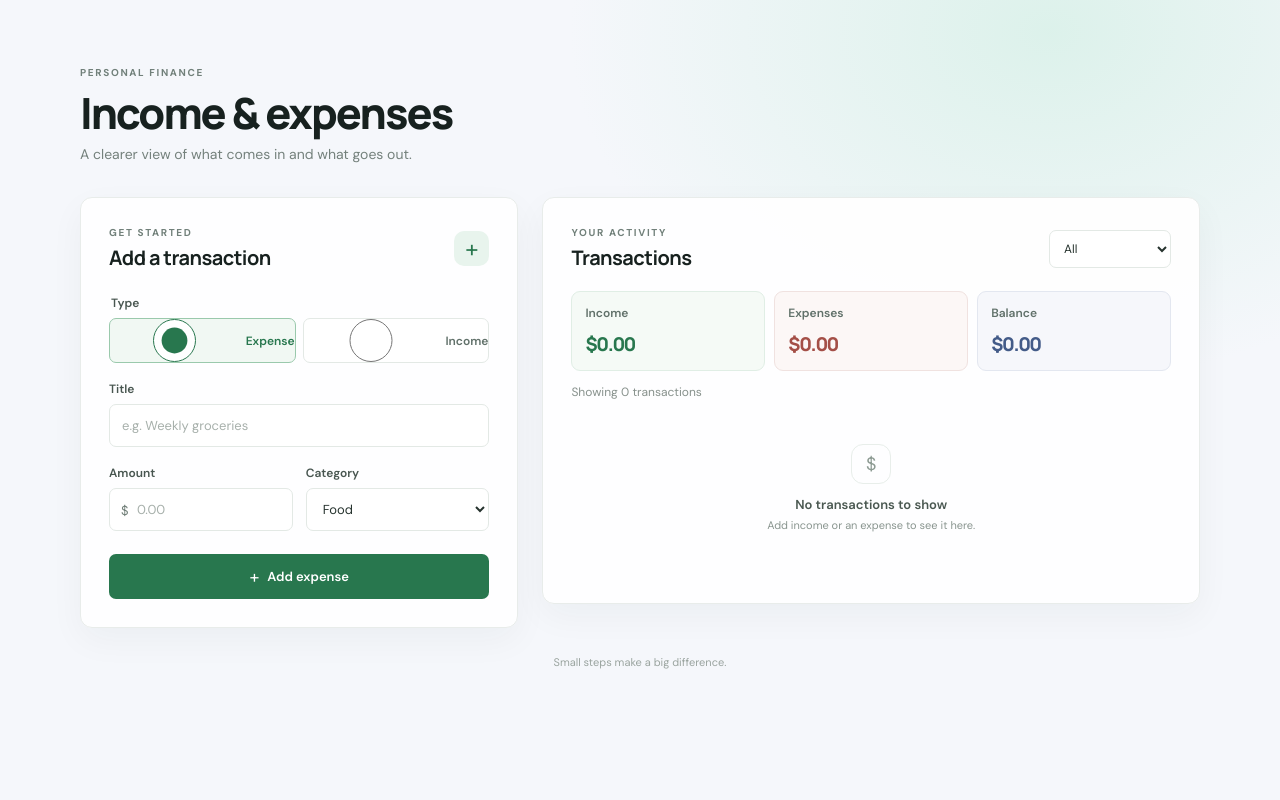
Test: expense tracker › adds a valid expense and updates the total and count
Type "Lunch" into the field labelled "Title".
click(299, 426); type("Lunch")  # box [109,404,489,447]
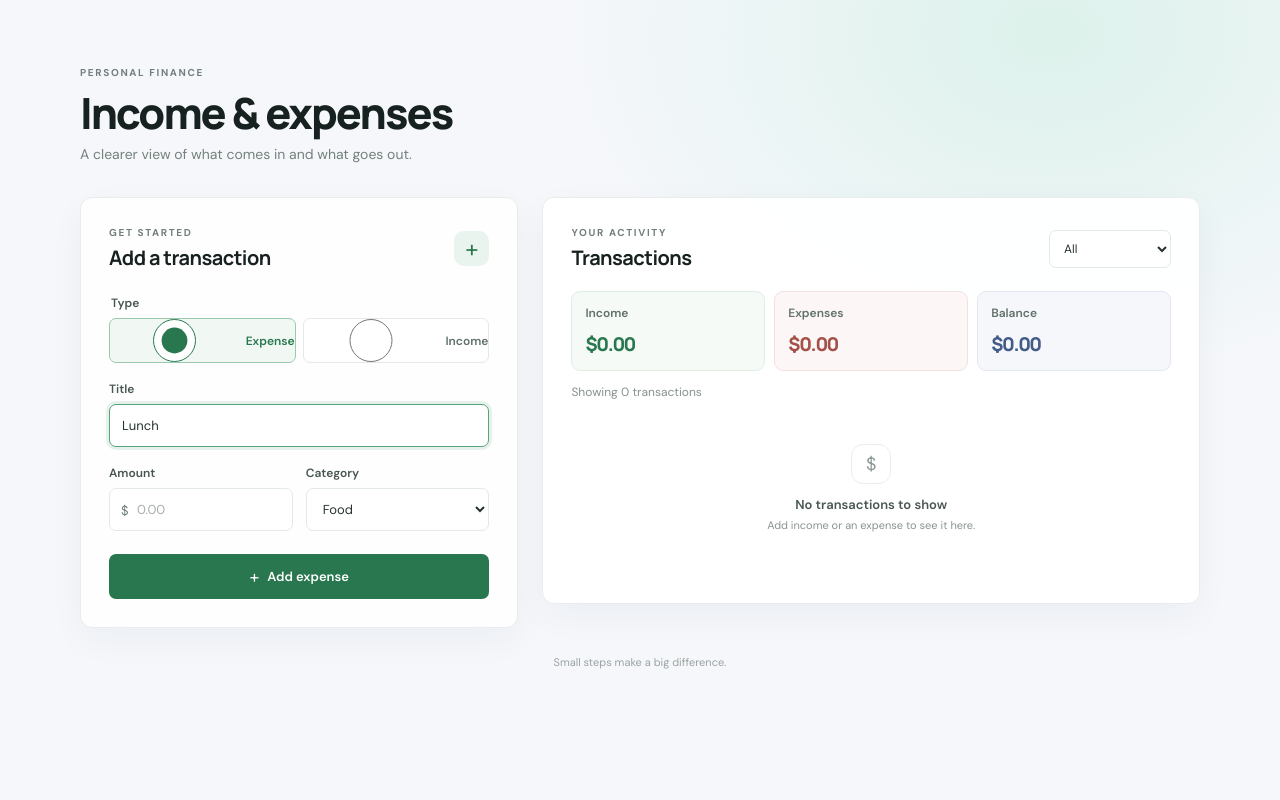
Type "250" into the number field labelled "Amount".
click(201, 510); type("250")  # box [109,488,293,531]
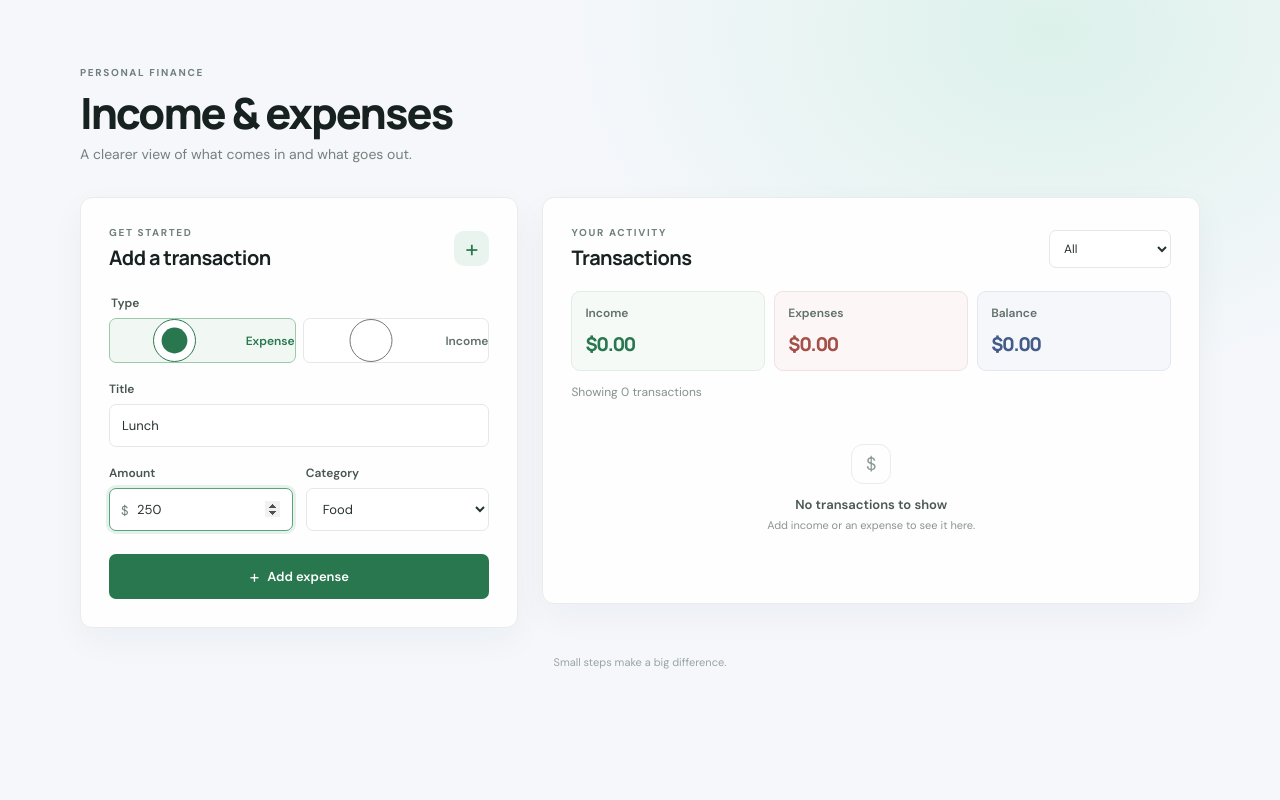
Click the button "+ Add expense".
click(299, 577)  # box [109,554,489,599]
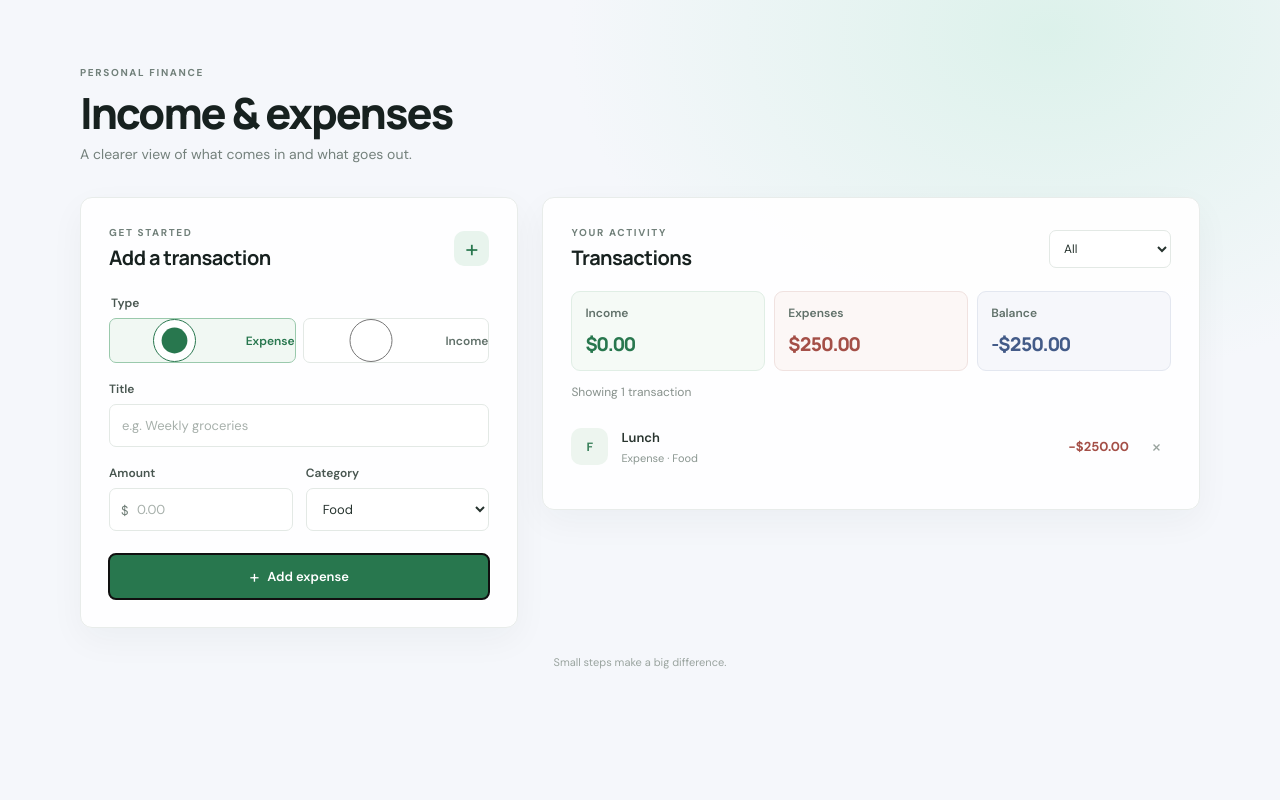
Result: the text "Lunch" is shown at [621,429,660,446]
Result: the text "$250.00" is shown at [788,331,860,357]
Result: the text "Showing 1 transaction" is shown at [571,384,691,400]
